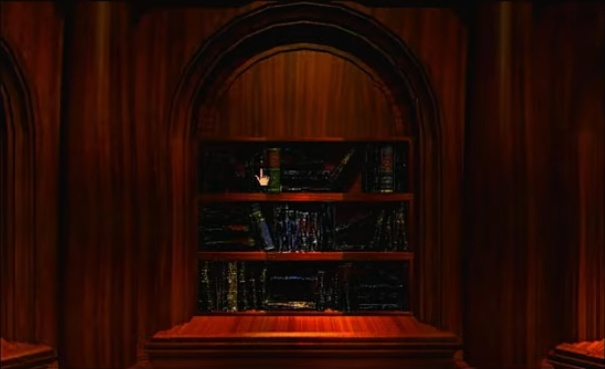Pointer: (252, 166, 274, 187)
